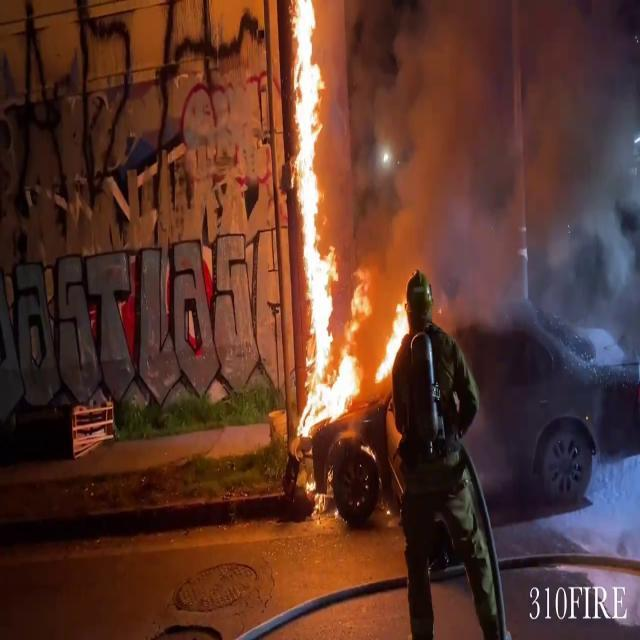Fire: (286, 0, 364, 438), (374, 290, 410, 390)
Smoke: (338, 0, 639, 324)
